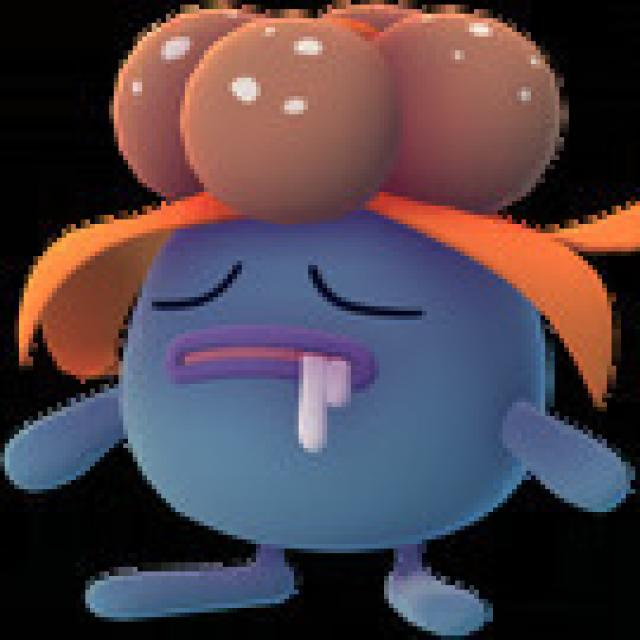Gloom: (87, 0, 587, 622)
